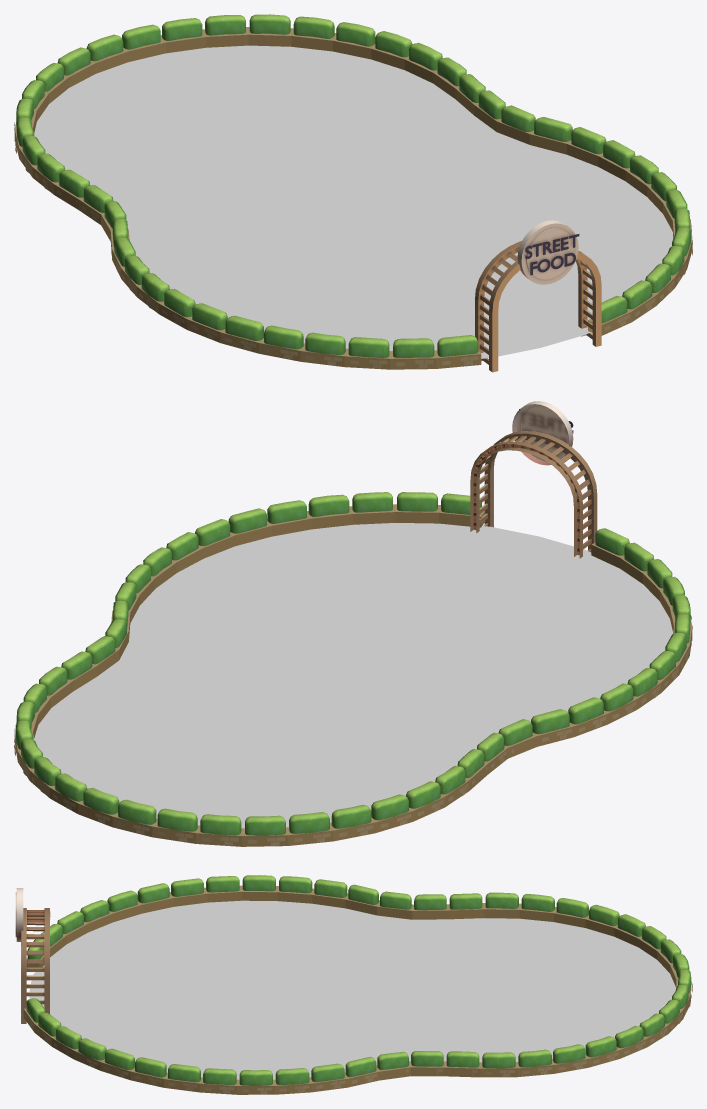
File: fence_dessert_test.fbx
The picture shows the model from 3 angles, top to bottom: view 1: azimuth 30°, elevation 25°; view 2: azimuth 150°, elevation 25°; view 3: azimuth 270°, elevation 25°; orthographic projection. The views are drawn at different scales.
Visible parts, largest first — view 1: Circle.004, Cube_022, Text_002; view 2: Circle.004, Cube_022, Text_002; view 3: Circle.004, Cube_022, Text_002.
Part boxes in pixels (x1,y1,x2,y2): Circle.004: (34, 45, 673, 358); Cube_022: (14, 14, 692, 369); Text_002: (475, 220, 601, 372); Circle.004: (34, 523, 672, 828); Cube_022: (14, 492, 692, 846); Text_002: (470, 401, 597, 558); Circle.004: (29, 900, 675, 1079); Cube_022: (23, 875, 692, 1094); Text_002: (15, 888, 50, 1023).
Bounding box in the file's own units: 23.75 × 6.14 × 33.78.
